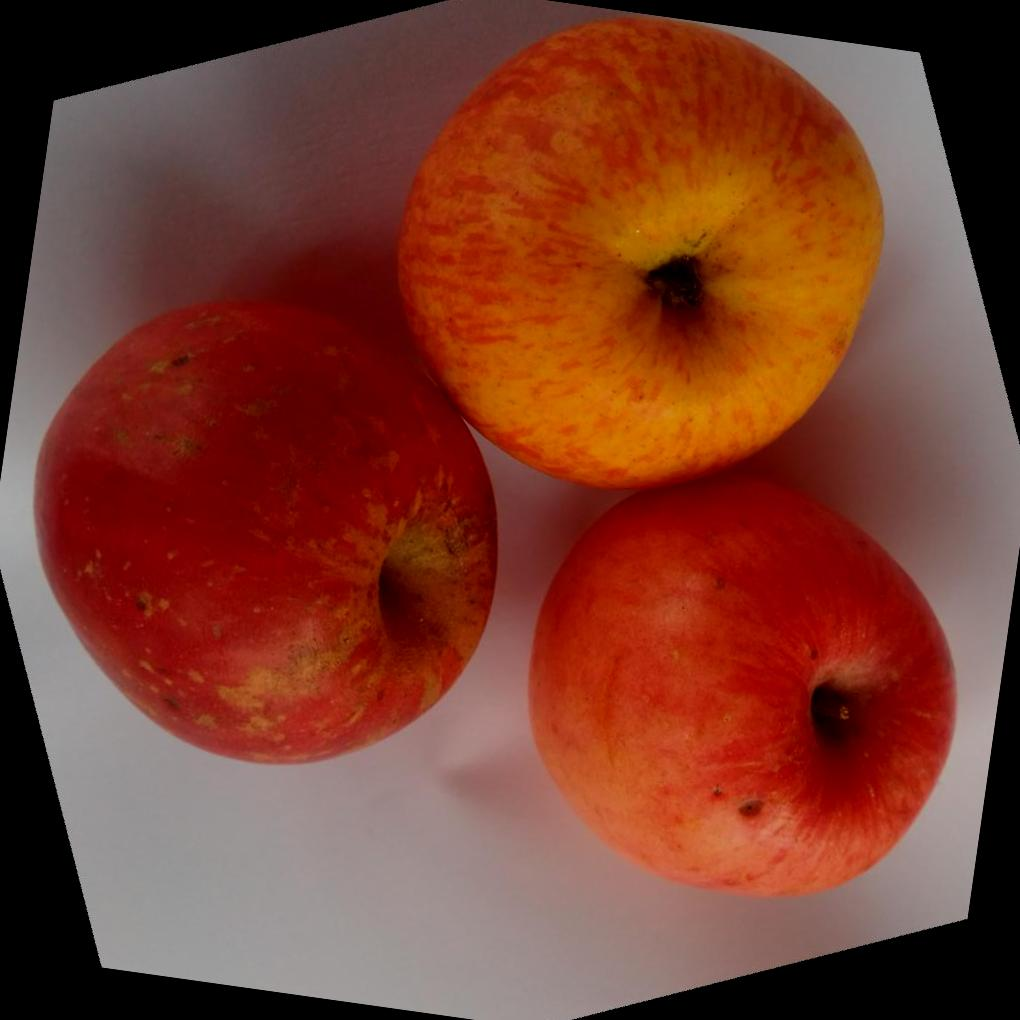FreshGuava: (28, 17, 956, 900)
